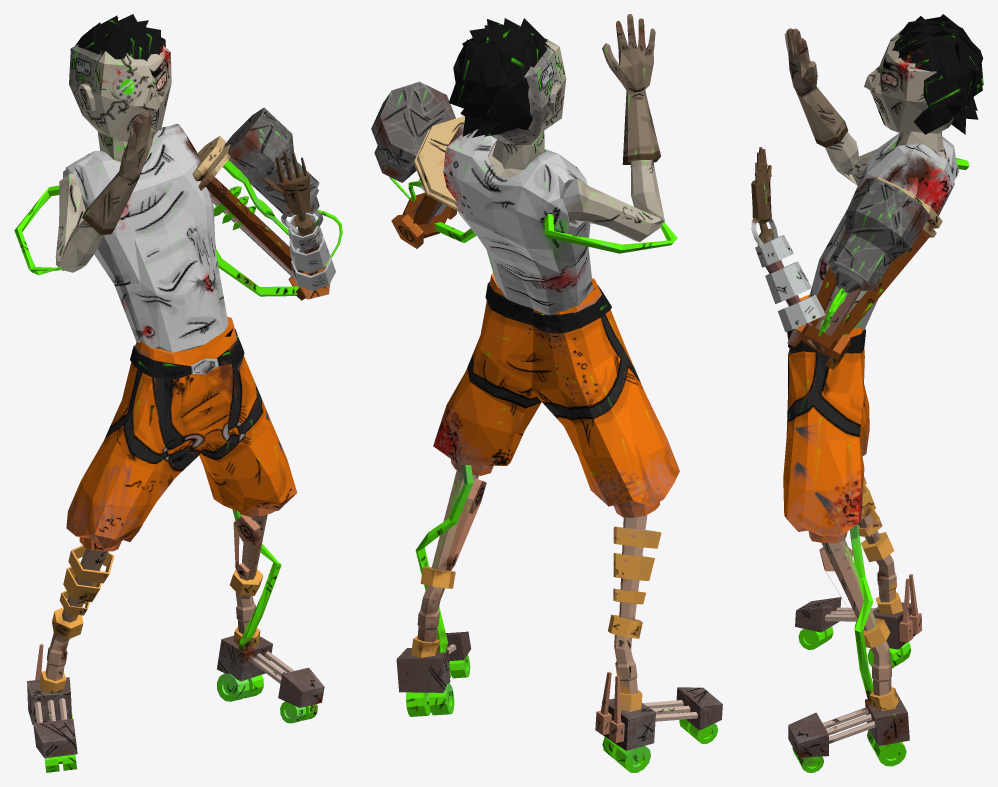
Rendered from CyborgFINALAnimation_000020.obj.
3 views of the same model, side by side, from view 1: azimuth 30°, elevation 25°; view 2: azimuth 150°, elevation 25°; view 3: azimuth 270°, elevation 25° (orthographic). The views are drawn at different scales.
Visible parts, largest first — view 1: CyborgMesh_Cube.002; view 2: CyborgMesh_Cube.002; view 3: CyborgMesh_Cube.002.
Part boxes in pixels (<box>): CyborgMesh_Cube.002: <box>14,14,342,772</box>; CyborgMesh_Cube.002: <box>371,14,722,772</box>; CyborgMesh_Cube.002: <box>751,14,983,772</box>.
Size of the model in its own units: 4.4 by 9.35 by 2.85.
